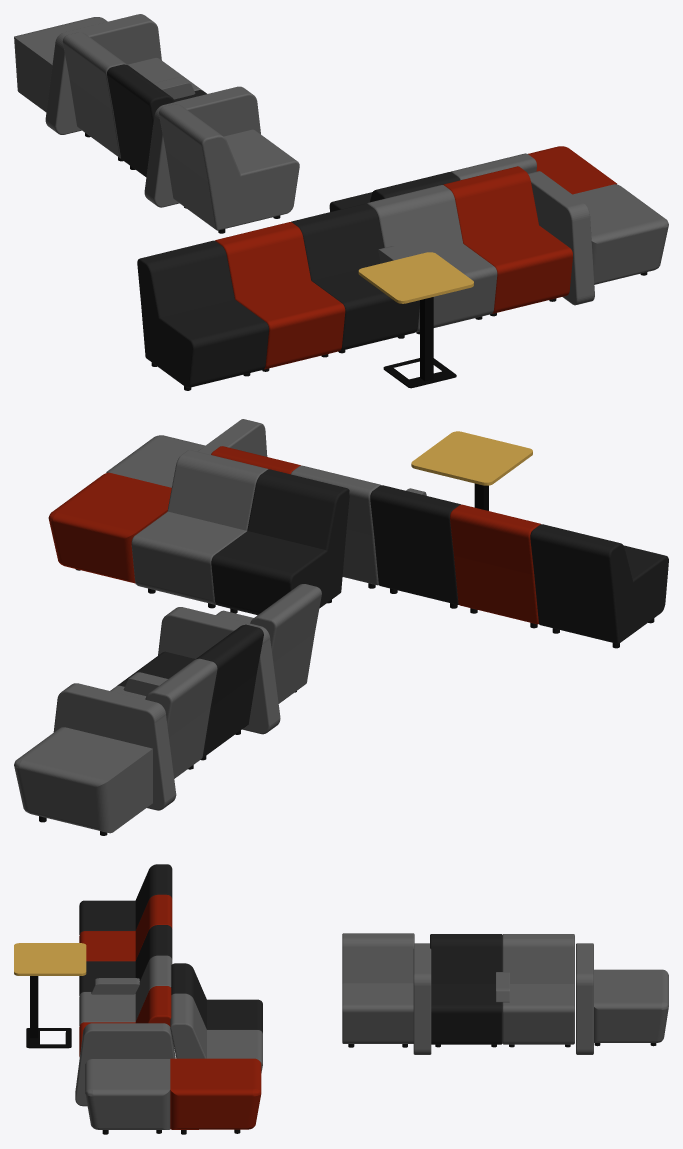
File: sofas near the assembly hall.obj
3 views of the same model, one above another, from view 1: azimuth 30°, elevation 25°; view 2: azimuth 150°, elevation 25°; view 3: azimuth 270°, elevation 25° (orthographic). The views are drawn at different scales.
Parts seen in each view (by area): view 1: Cube.004, Cube.011, Cube.003, Cube, Cube.002, Cube.001, Cube.007, Cube.013, Cube.016, Cube.012, Cube.005, Cube.014 (+7 smaller); view 2: Cube.009, Cube.004, Cube.010, Cube.017, Cube.008, Cube.003, Cube.002, Cube.016, Cube.014, Cube.012, Cube.011, Cube.013 (+6 smaller); view 3: Cube.011, Cube.013, Cube.014, Cube.008, Cube.007, Cube.017, Cube.005, Cube.010, Cube.004, Cube.009, Cube.001, Cube.003 (+8 smaller).
Boxes of the visible parts, x1,y1,x2,y2 form: Cube.004: [137, 240, 268, 387]; Cube.011: [159, 104, 299, 230]; Cube.003: [215, 222, 345, 369]; Cube: [443, 166, 572, 313]; Cube.002: [291, 203, 419, 350]; Cube.001: [367, 185, 497, 332]; Cube.007: [572, 184, 668, 284]; Cube.013: [62, 32, 201, 158]; Cube.016: [45, 14, 161, 134]; Cube.012: [144, 86, 260, 207]; Cube.005: [528, 171, 594, 305]; Cube.014: [107, 64, 206, 176]; Cube.009: [211, 469, 349, 615]; Cube.004: [530, 524, 668, 643]; Cube.010: [131, 450, 268, 604]; Cube.017: [14, 727, 152, 833]; Cube.008: [48, 472, 171, 583]; Cube.003: [450, 504, 540, 624]; Cube.002: [370, 485, 460, 604]; Cube.016: [53, 683, 176, 810]; Cube.014: [117, 624, 263, 757]; Cube.012: [158, 607, 280, 734]; Cube.011: [216, 584, 321, 703]; Cube.013: [110, 658, 217, 778]; Cube.011: [342, 933, 414, 1043]; Cube.013: [502, 934, 574, 1044]; Cube.014: [430, 934, 502, 1044]; Cube.008: [170, 1058, 261, 1129]; Cube.007: [85, 1059, 170, 1129]; Cube.017: [594, 969, 668, 1042]; Cube.005: [75, 1023, 175, 1106]; Cube.010: [170, 993, 262, 1072]; Cube.004: [79, 864, 172, 934]; Cube.009: [171, 963, 262, 1033]; Cube.001: [79, 955, 172, 1025]; Cube.003: [79, 894, 172, 961].
Bounding box in the file's own units: 12.62 × 2.79 × 18.07.
